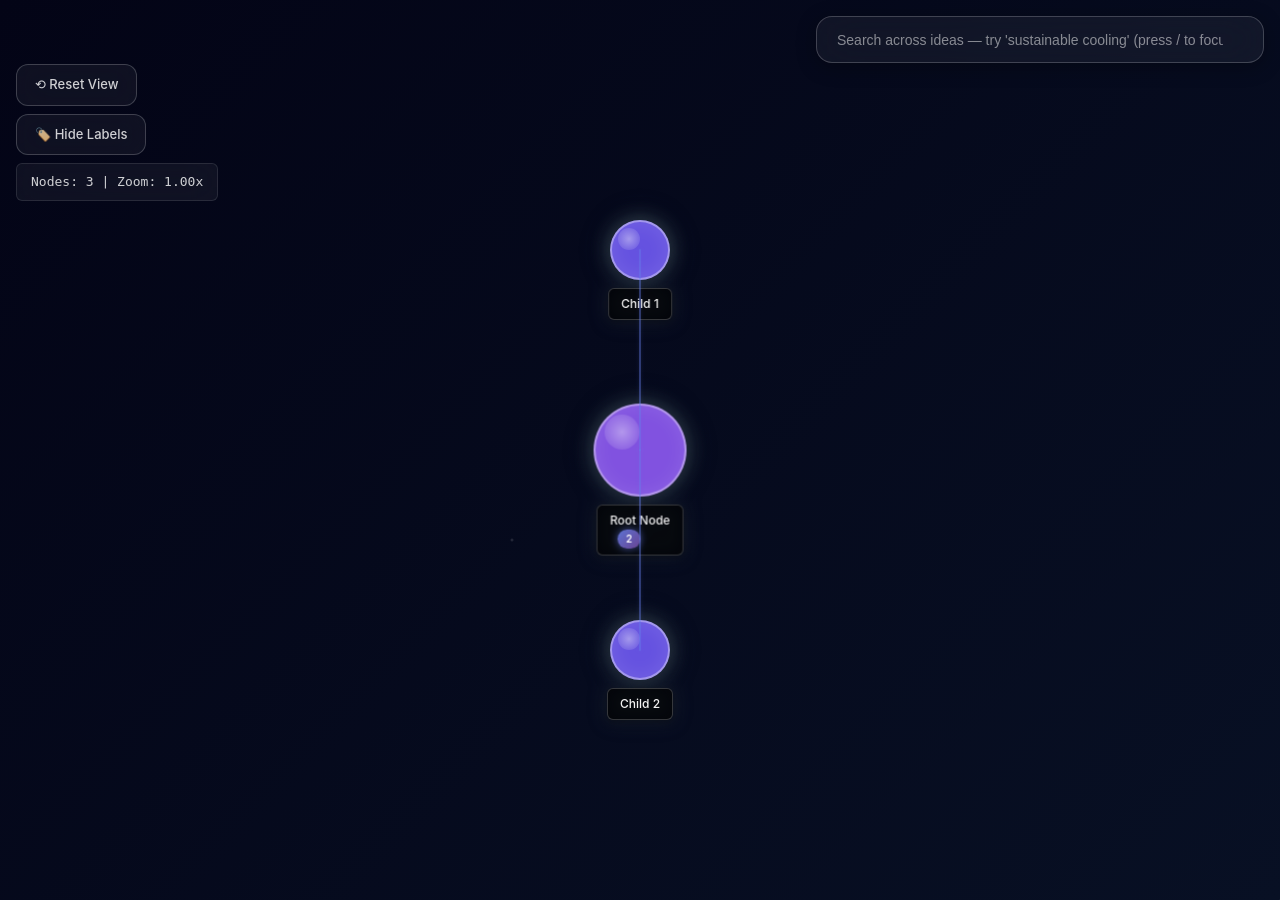
FractalCanvas Animations › Node Expand Animations › should show spinner during expansion
// Trigger expand
Right-click the button with aria-label "Node: Root Node" at (640, 450), box [594,404,686,496]
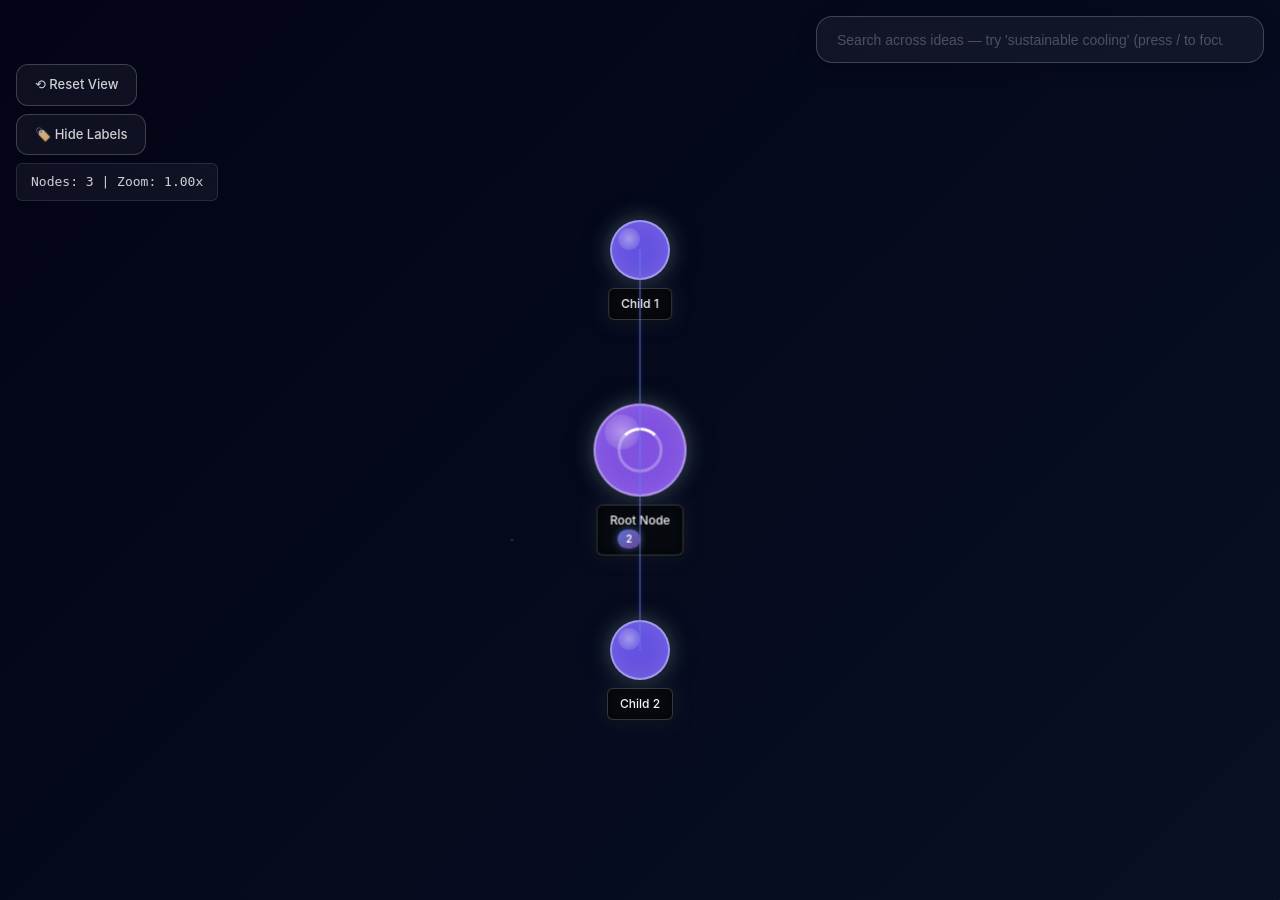
Expected: the element with class "node-spinner" is shown, [618,428,662,472]
